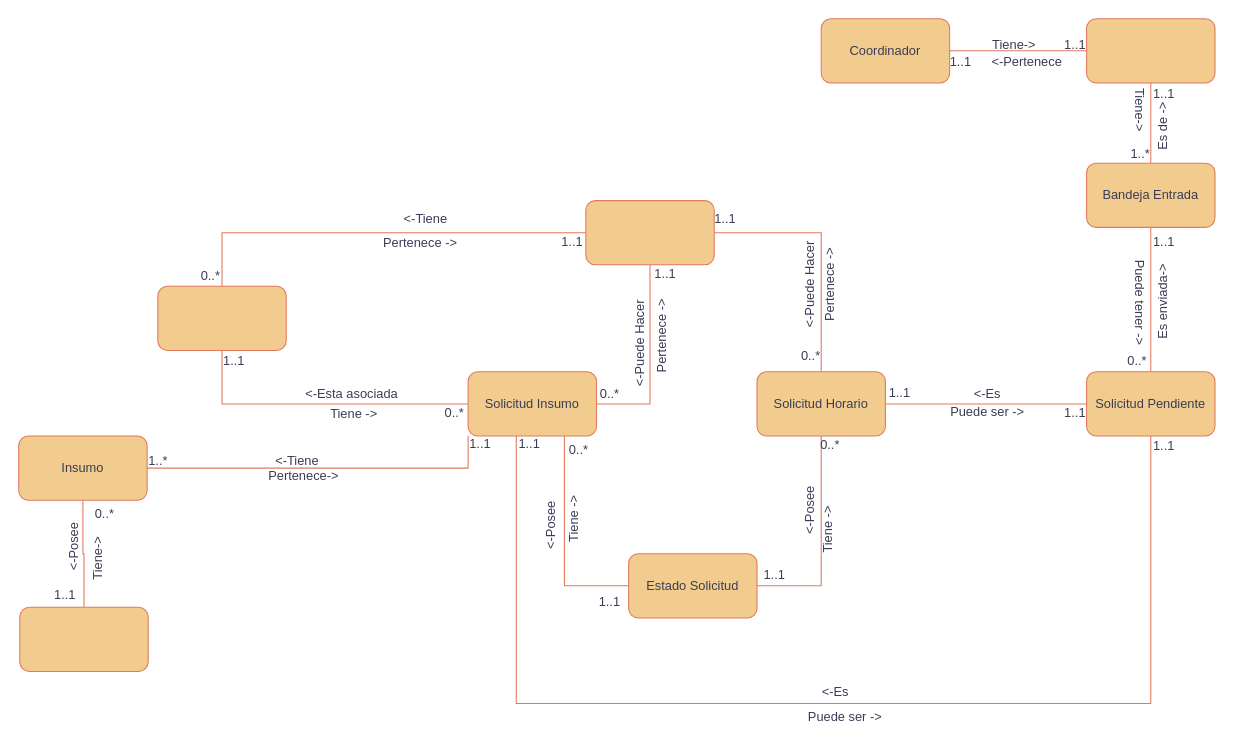
This 1234x752 diagram has some shape labels left out. The shapes that lost their labels are listed below. From the top down, each one's box as (x1, y1, x2, y2) in pixels, then its label:
(1086, 18, 1215, 83): Buzon
(585, 200, 714, 265): Usuario
(157, 285, 286, 350): Reserva
(19, 606, 148, 671): Tipo Insumo
